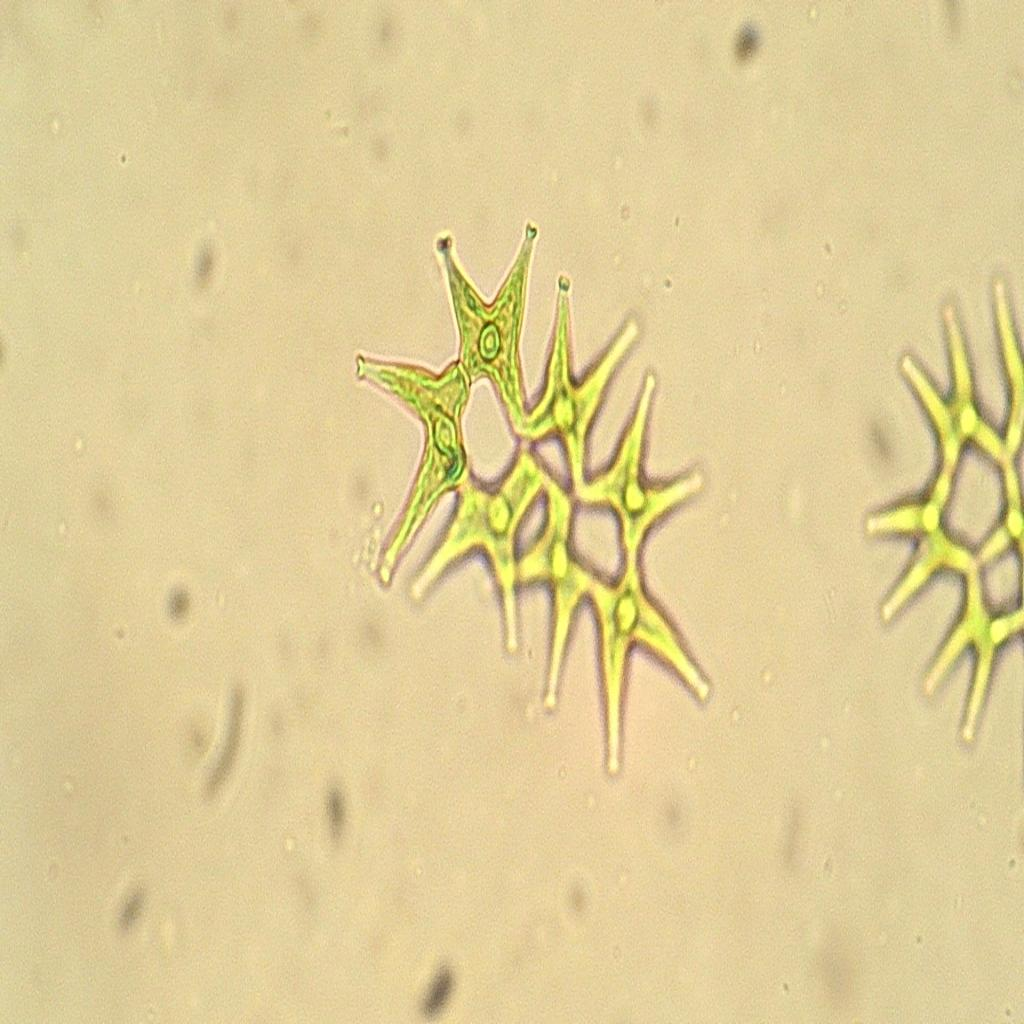Pediastrum_CFI: (330, 199, 737, 786)
